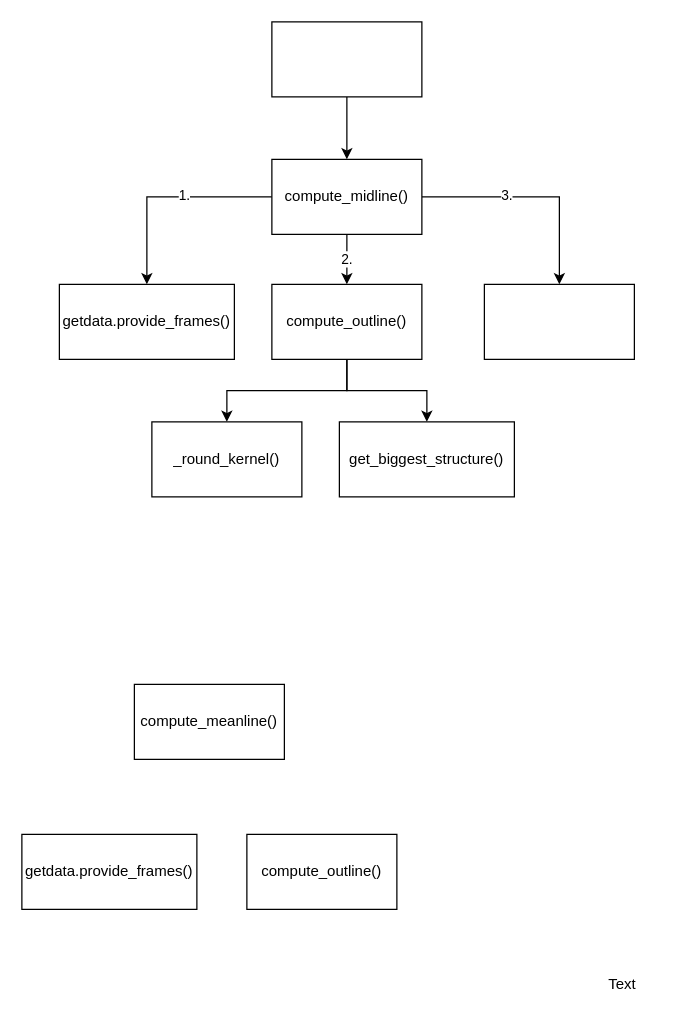
This 675x1025 diagram has some shape labels left out. The shapes that lost their labels are listed below. From the top down, each one's centre as x and y in pixels, then its label:
At point 346,59: "compute_midlines()".
At point 558,321: "fit_midline()".
